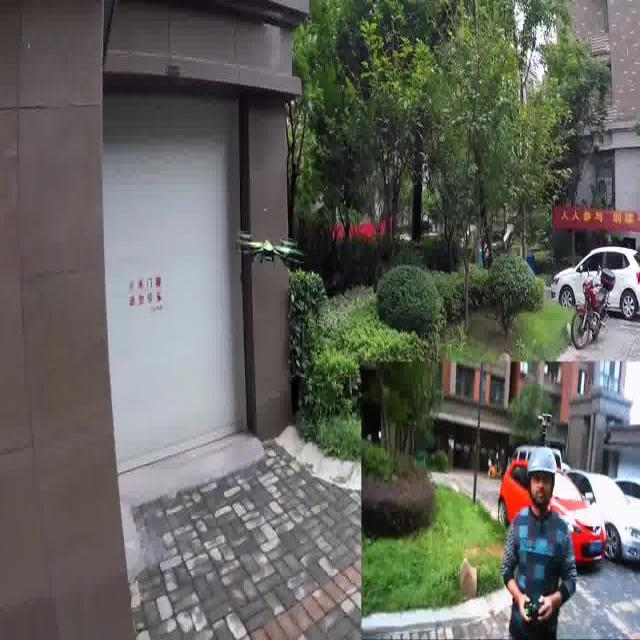drone: (234, 220, 302, 284)
